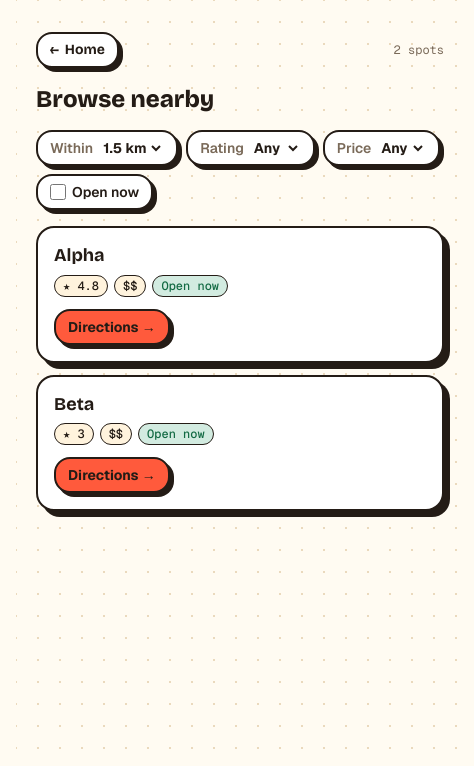
Test case: BrowseView › filters the list when minimum rating is raised
This screenshot has width=474, height=766.
Expected: the heading "Alpha" is shown, [54,244,105,266]
Select "4.5+" in the dropdown named "minimum rating" at (275, 148), box [250,138,301,158]
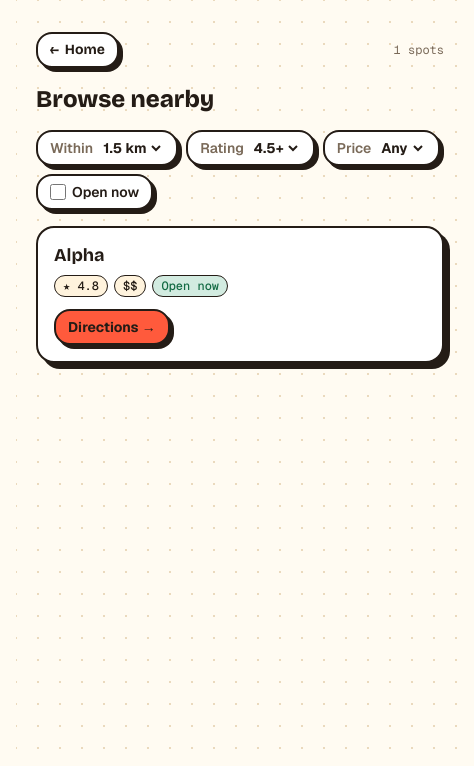
Expected: the heading "Alpha" is shown, [54,244,105,266]
Expected: the heading "Beta" is gone
